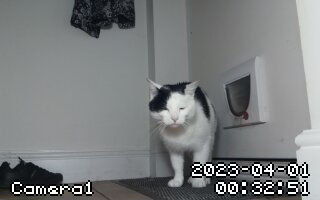bad: (147, 79, 217, 190)
